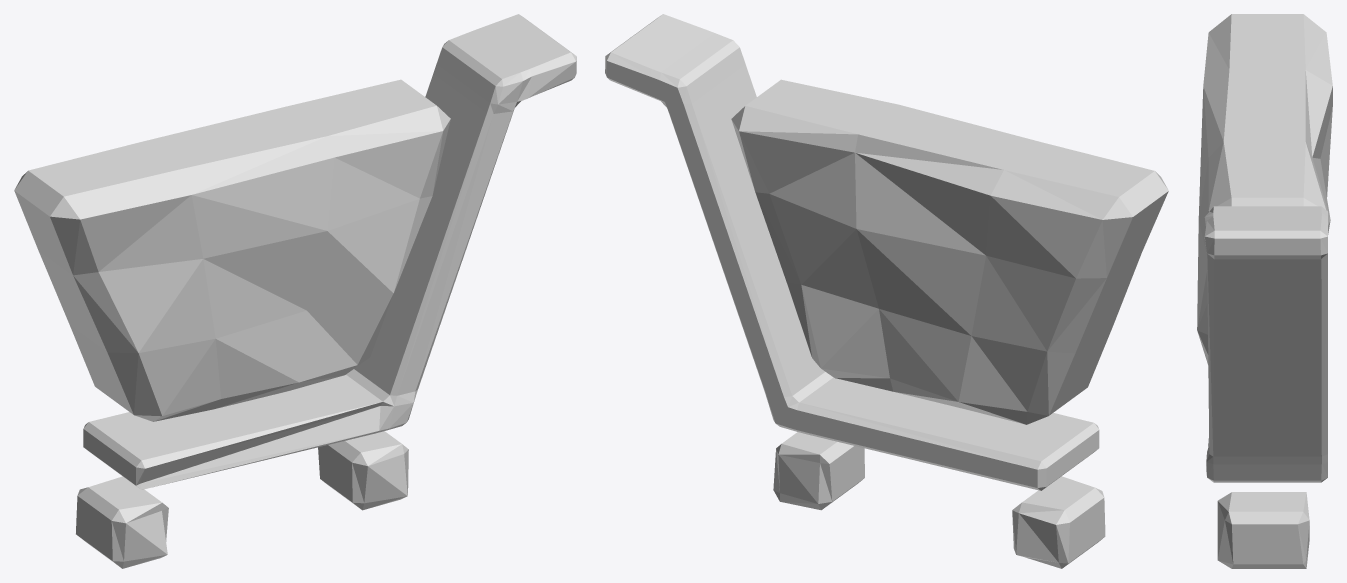
The model's file is SM_shop_UI.fbx.
3 renders of one model, left to right at view 1: azimuth 30°, elevation 25°; view 2: azimuth 150°, elevation 25°; view 3: azimuth 270°, elevation 25°, orthographic.
Parts seen in each view (by area): view 1: SM_shop_SH; view 2: SM_shop_SH; view 3: SM_shop_SH.
Part boxes in pixels (bbox=[...]): SM_shop_SH: bbox=[14, 14, 576, 568]; SM_shop_SH: bbox=[605, 14, 1168, 568]; SM_shop_SH: bbox=[1197, 14, 1332, 568].
Bounding box in the file's own units: 6.09 × 1.37 × 4.65.
